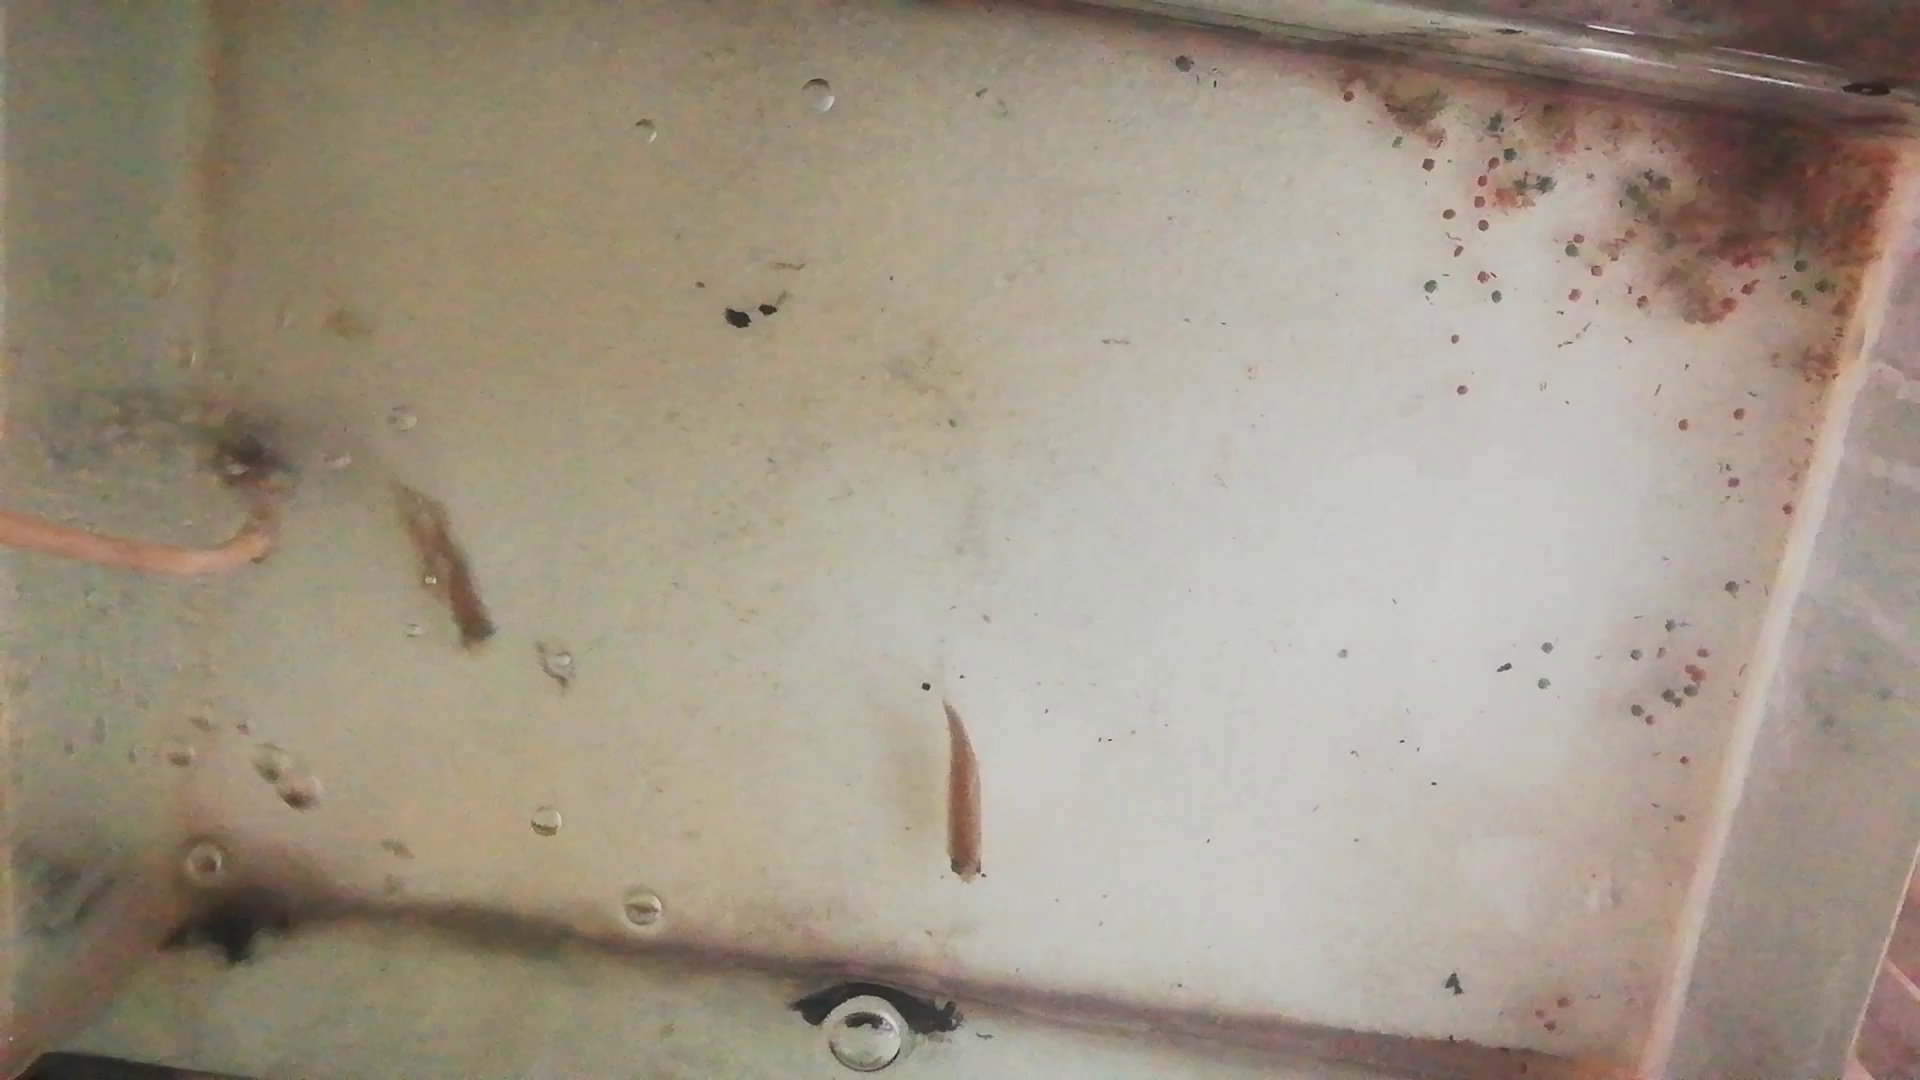fish: (392, 488, 501, 650), (938, 698, 992, 884)
